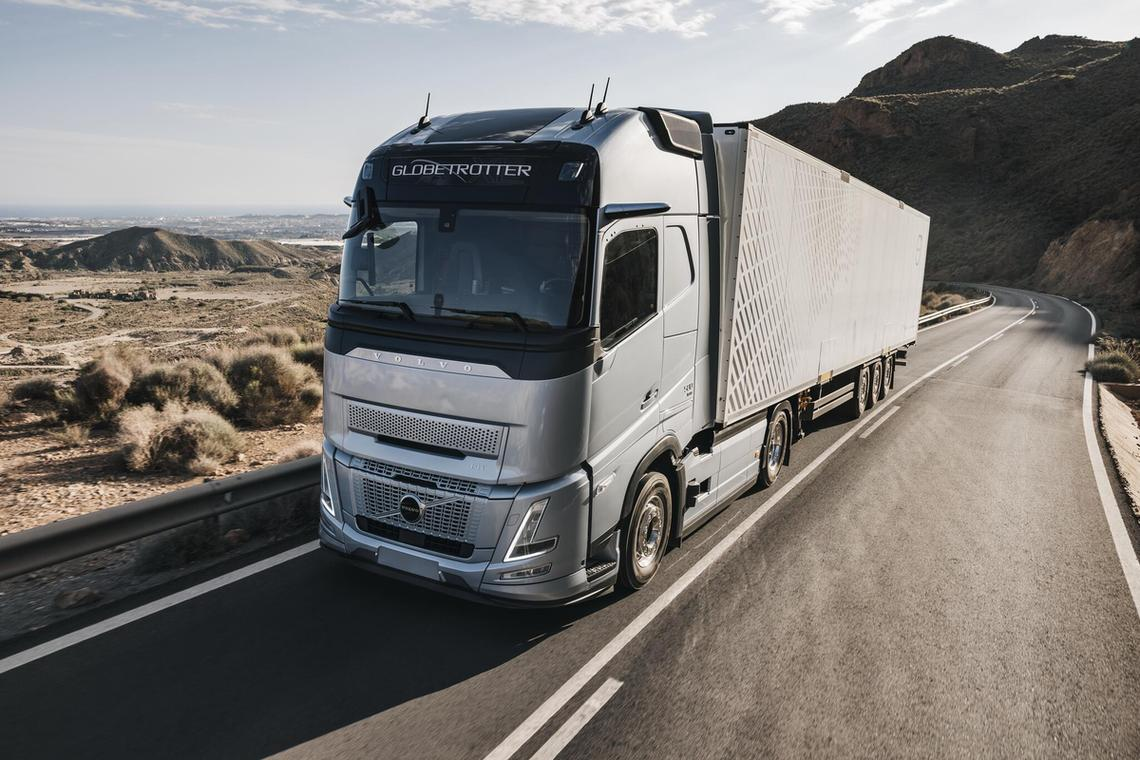卡车: (308, 89, 948, 612)
